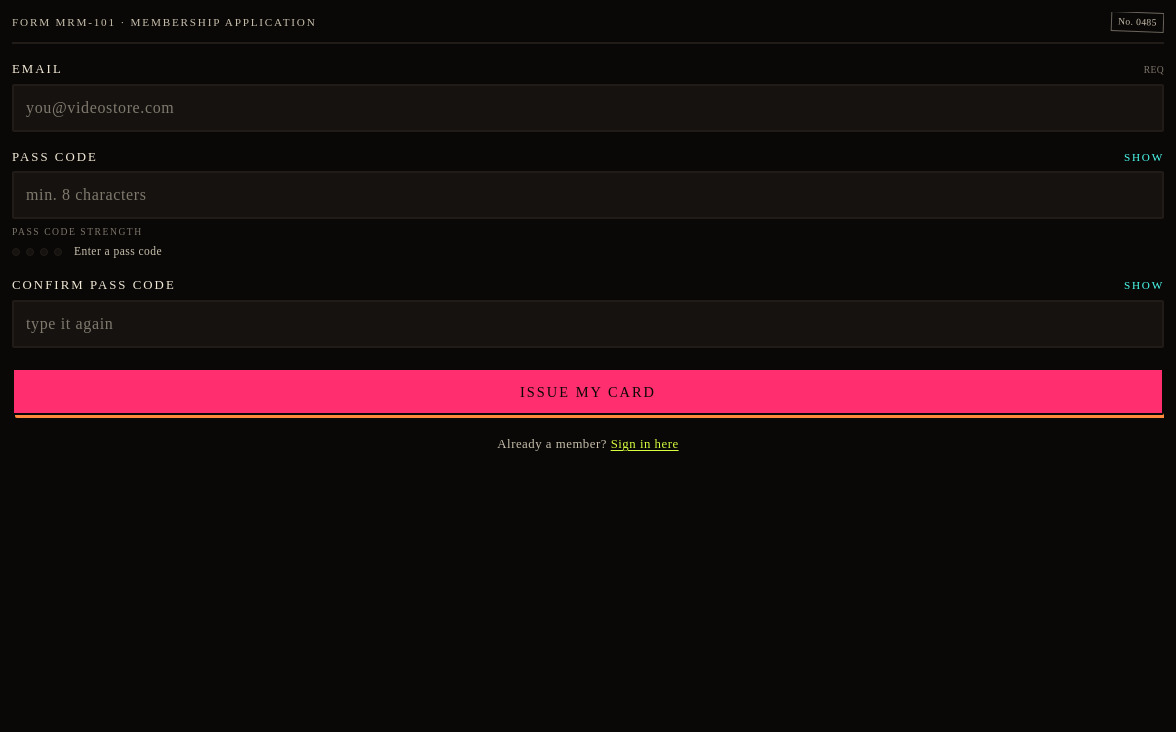
Scenario: SignupForm › displays the VHS error banner when the action returns an error
Type "existing@example.com" into the field labelled "Email REQ" at (588, 108), box top-left (12, 84), bottom-right (1164, 132)
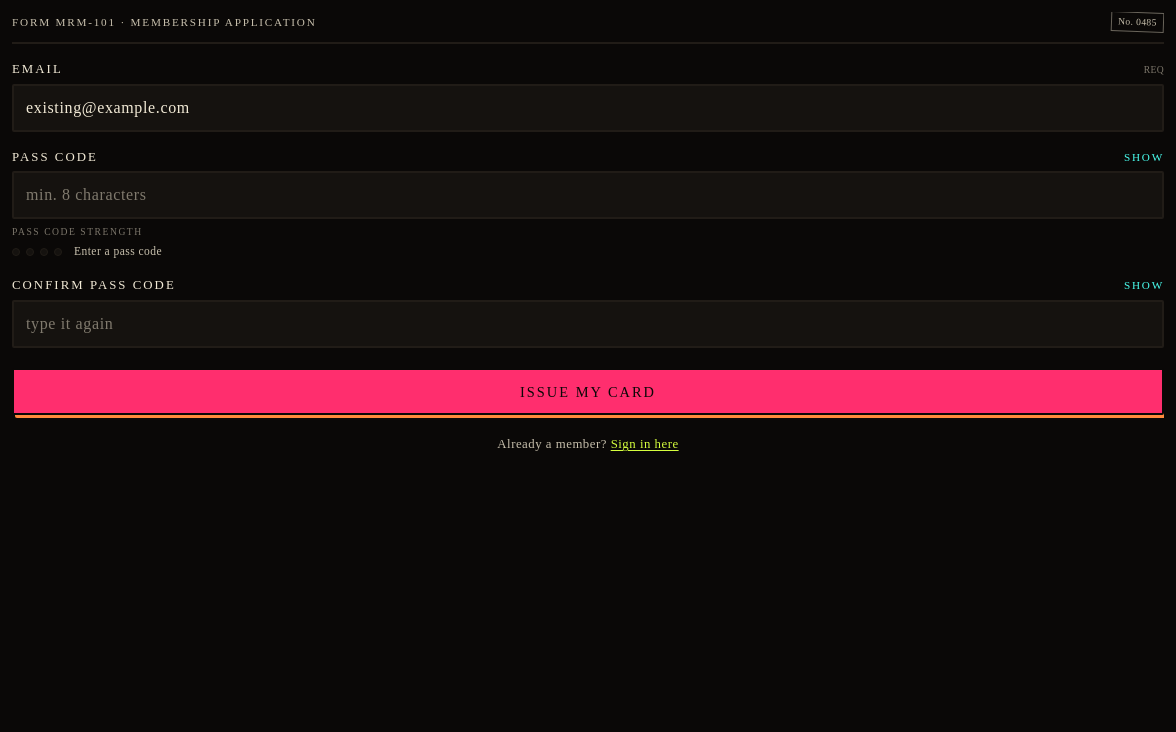
Type "password123" into the password field labelled "Pass code" at (588, 195), box top-left (12, 171), bottom-right (1164, 219)
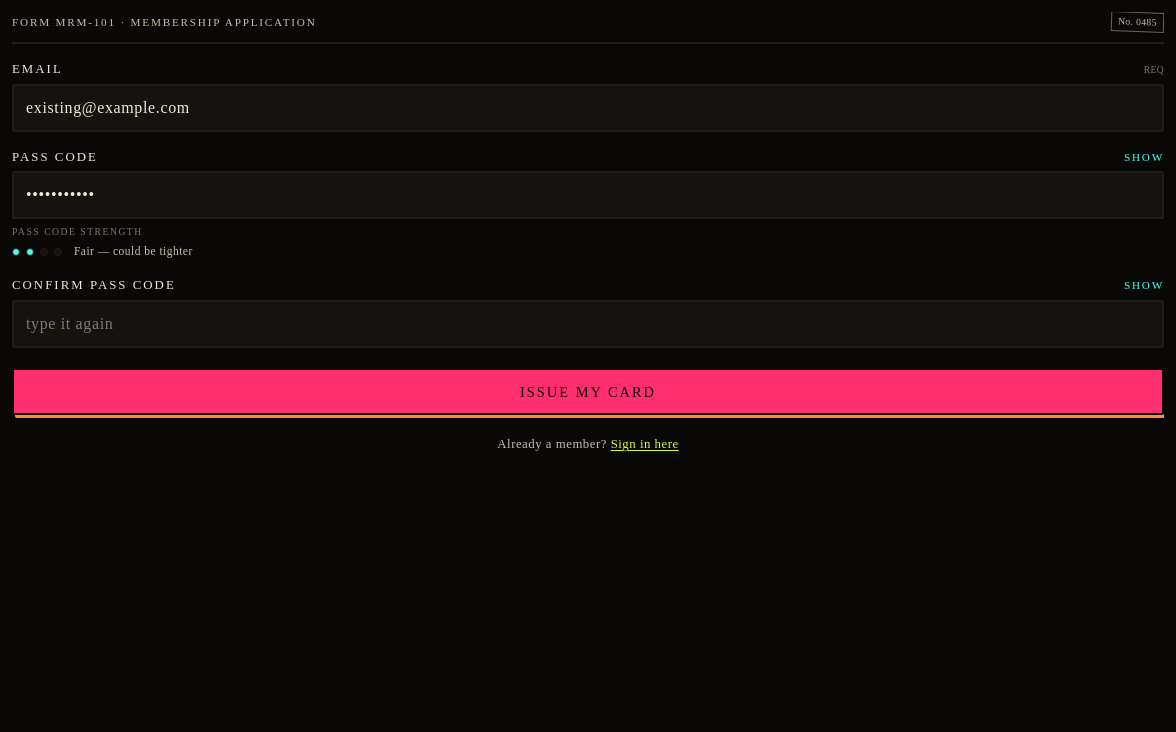
Type "password123" into the password field labelled "Confirm pass code" at (588, 324), box top-left (12, 300), bottom-right (1164, 348)
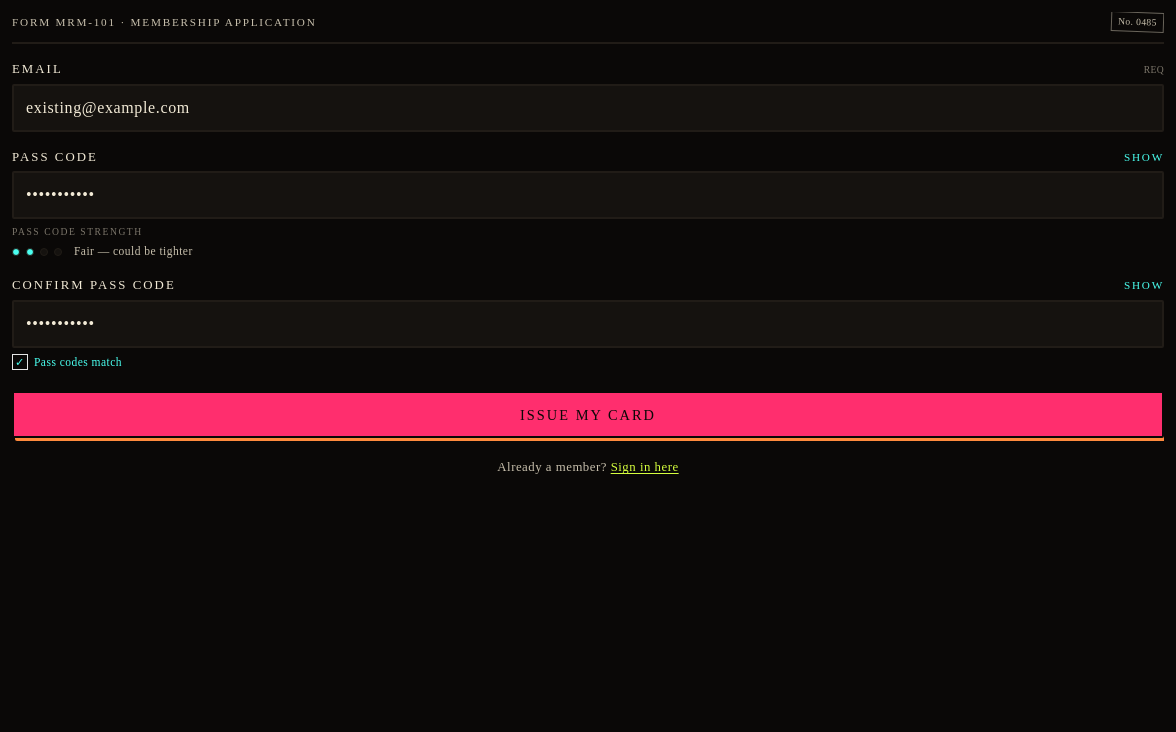
Click the button "Issue my card" at (588, 415), box top-left (12, 391), bottom-right (1164, 438)
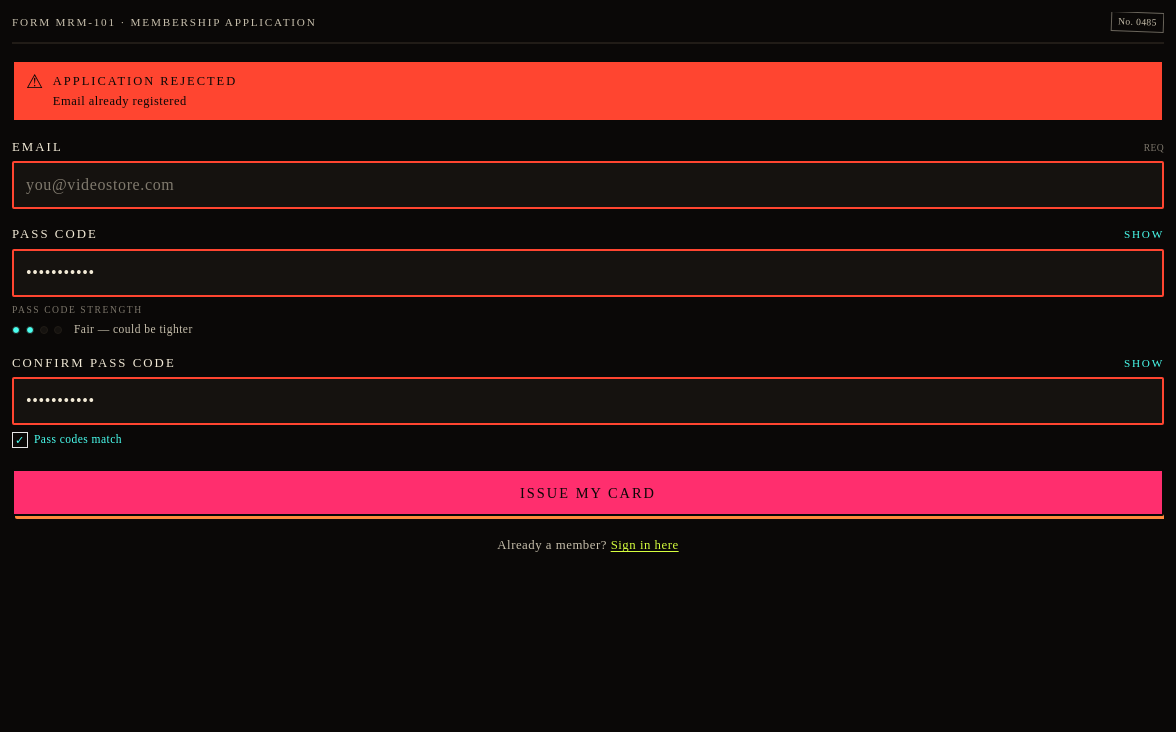
Check: the message "⚠ Application rejected Email already registered" is shown, box top-left (12, 60), bottom-right (1164, 122)
